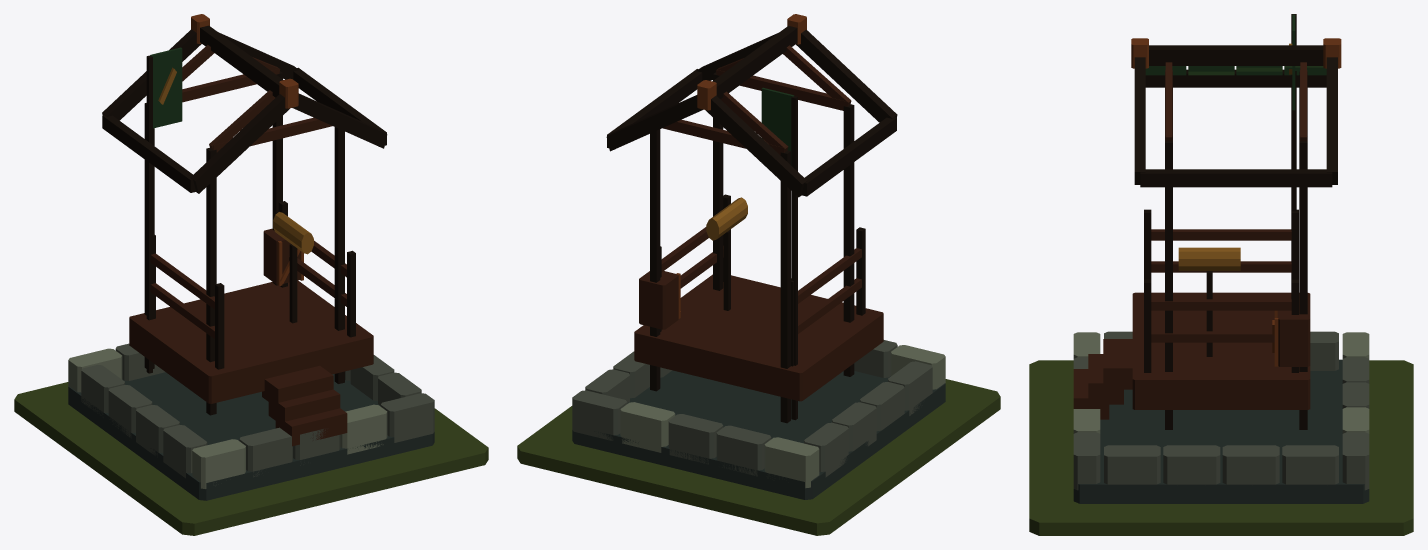
File: scout_post_t4.glb
3 views of the same model, side by side, from view 1: azimuth 30°, elevation 25°; view 2: azimuth 150°, elevation 25°; view 3: azimuth 270°, elevation 25° (orthographic). The views are drawn at different scales.
Parts seen in each view (by area): view 1: MMR | scout_post | T04 Architecture.001, MMR | scout_post | Tier 04 Ground.001; view 2: MMR | scout_post | T04 Architecture.001, MMR | scout_post | Tier 04 Ground.001; view 3: MMR | scout_post | T04 Architecture.001, MMR | scout_post | Tier 04 Ground.001.
Part boxes in pixels (x1,y1,x2,y2): MMR | scout_post | T04 Architecture.001: [68, 14, 434, 500]; MMR | scout_post | Tier 04 Ground.001: [14, 382, 488, 535]; MMR | scout_post | T04 Architecture.001: [572, 14, 945, 499]; MMR | scout_post | Tier 04 Ground.001: [517, 379, 1000, 535]; MMR | scout_post | T04 Architecture.001: [1073, 14, 1369, 503]; MMR | scout_post | Tier 04 Ground.001: [1029, 360, 1413, 535].
Size of the model in its own units: 1.3 by 1.54 by 1.3.
Materials: 1 (1 with a texture image).
